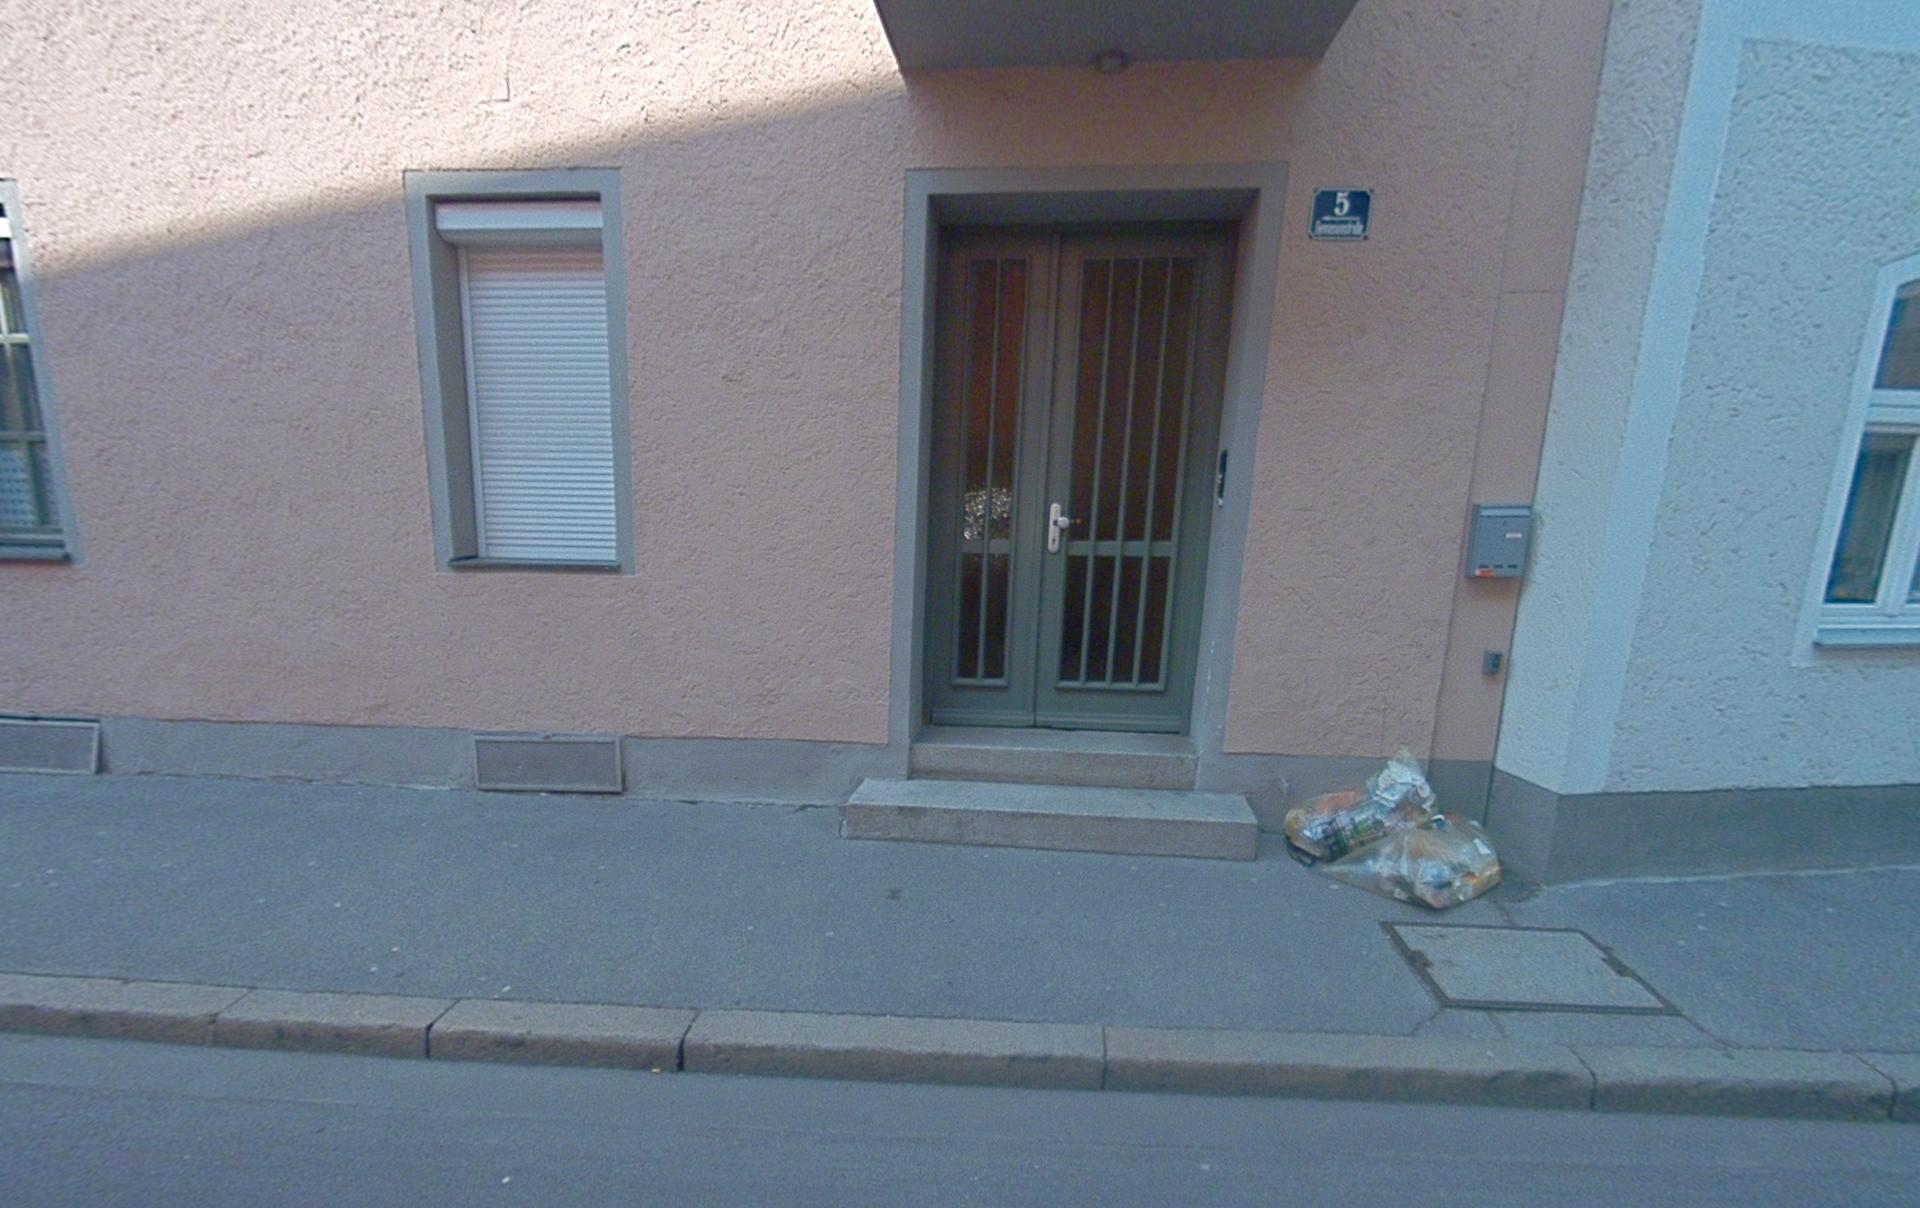traffic sign: (1306, 188, 1372, 241)
